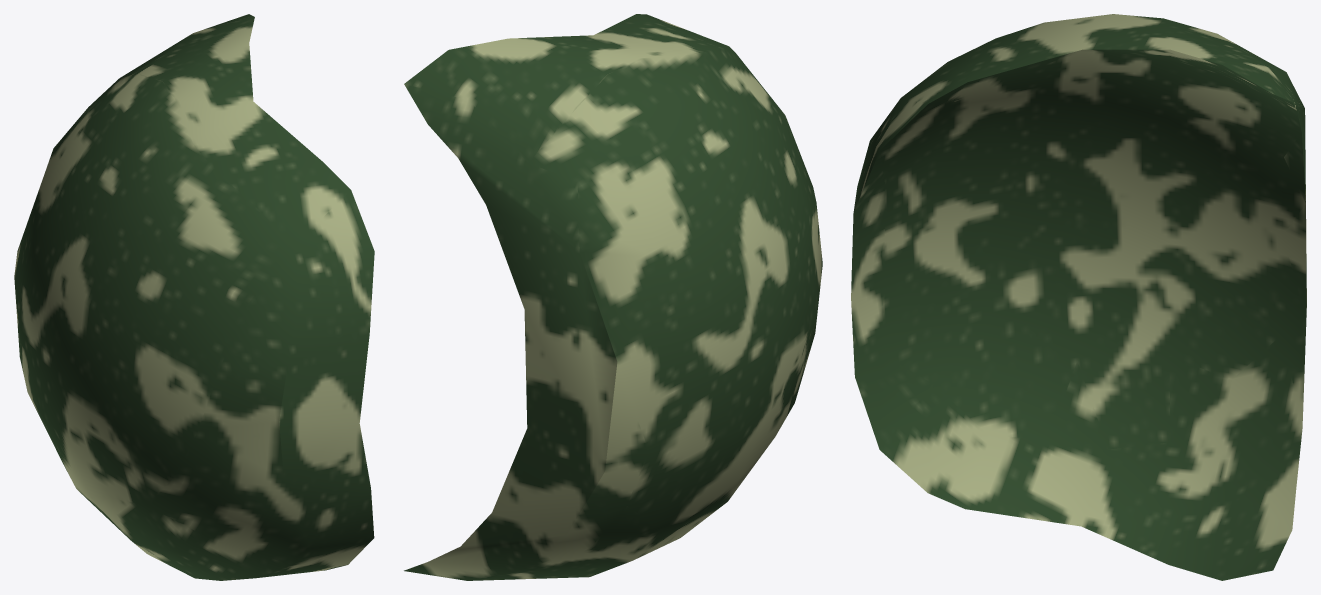
The model's file is link_body_10.obj.
3 views of the same model, side by side, from view 1: azimuth 30°, elevation 25°; view 2: azimuth 150°, elevation 25°; view 3: azimuth 270°, elevation 25° (orthographic). The views are drawn at different scales.
Visible parts, largest first — view 1: link_body_10; view 2: link_body_10; view 3: link_body_10.
Part boxes in pixels (box(x1,y1,x2,y2)): link_body_10: box(14, 14, 374, 580); link_body_10: box(404, 14, 822, 580); link_body_10: box(851, 14, 1306, 580).
Bounding box in the file's own units: 10.75 × 18.75 × 15.01.
